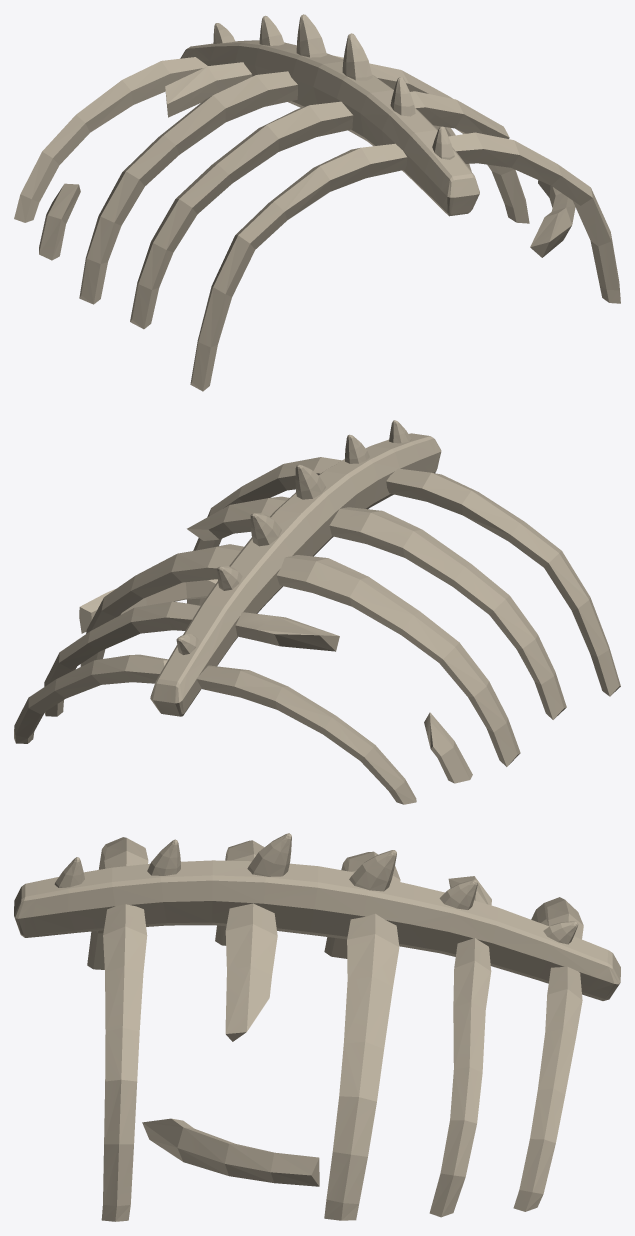
Rendered from cc0-whale-bones.glb.
The picture shows the model from 3 angles, top to bottom: view 1: azimuth 30°, elevation 25°; view 2: azimuth 150°, elevation 25°; view 3: azimuth 270°, elevation 25°; orthographic projection. The views are drawn at different scales.
Visible parts, largest first — view 1: cc0-whale-bones; view 2: cc0-whale-bones; view 3: cc0-whale-bones.
Boxes of the visible parts, left/top/right/bottom form: cc0-whale-bones: left=14, top=14, right=620, bottom=391; cc0-whale-bones: left=14, top=420, right=620, bottom=804; cc0-whale-bones: left=14, top=833, right=620, bottom=1221.
Bounding box in the file's own units: 5.89 × 3.11 × 6.
